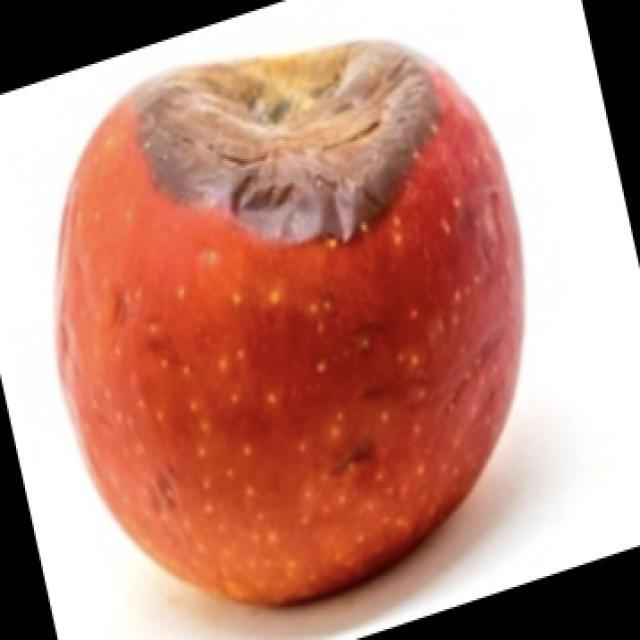Rotten: (63, 40, 512, 615)
